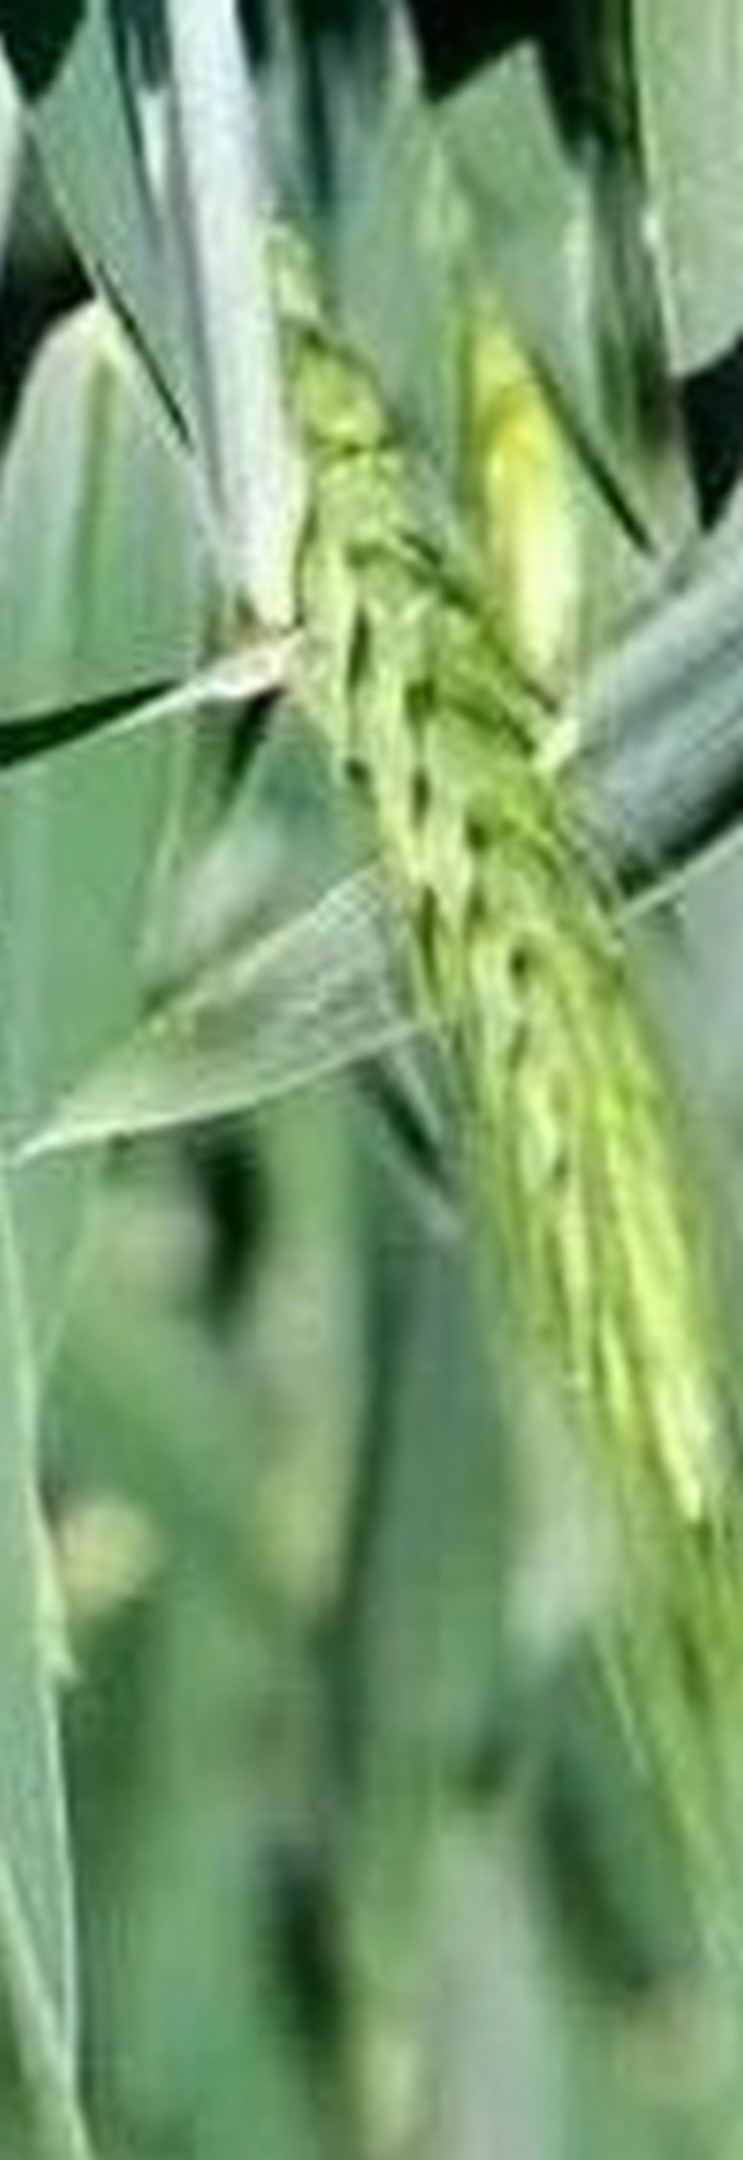Healthy Wheat: (272, 401, 743, 1540)
